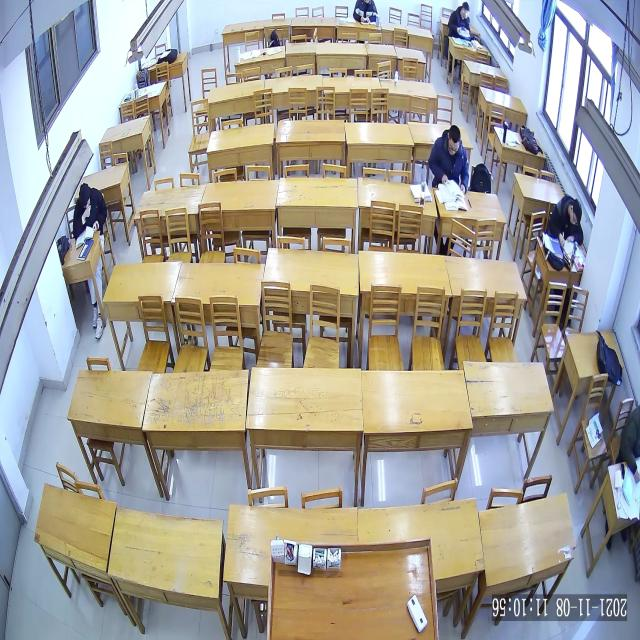down: (446, 124, 462, 158), (77, 181, 93, 211), (567, 198, 583, 226)
sit: (426, 122, 469, 195), (72, 180, 108, 243), (546, 192, 586, 248), (447, 1, 472, 38)
